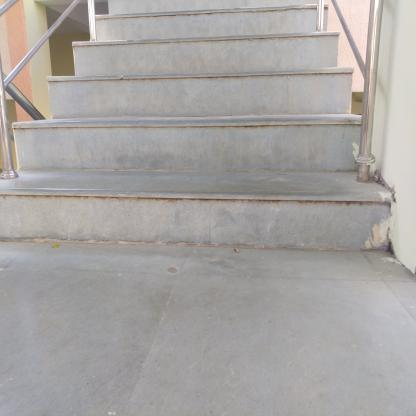stairs: (98, 28, 341, 265)
